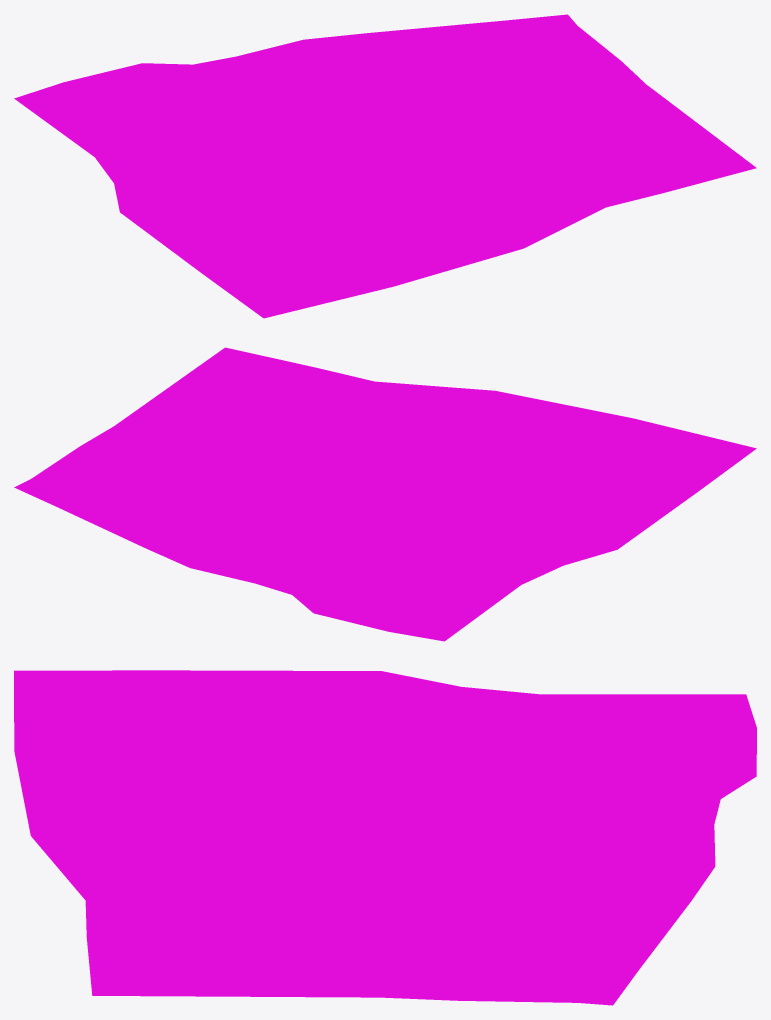
File: Suelo.FBX
The picture shows the model from 3 angles, top to bottom: view 1: azimuth 30°, elevation 25°; view 2: azimuth 150°, elevation 25°; view 3: azimuth 270°, elevation 25°; orthographic projection. The views are drawn at different scales.
Parts seen in each view (by area): view 1: Suelo; view 2: Suelo; view 3: Suelo.
Part boxes in pixels (x1,y1,x2,y2): Suelo: (14,14,756,318); Suelo: (14,347,756,641); Suelo: (14,670,756,1005).
Size of the model in its own units: 218474 by 204704 by 0.
